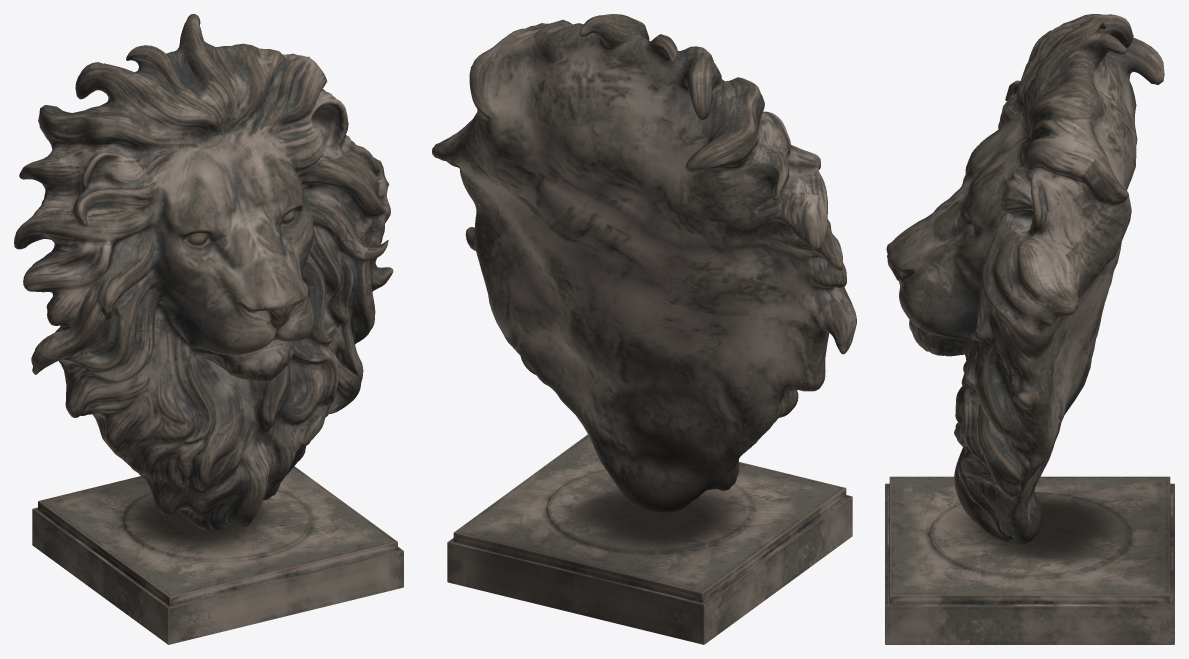
Rendered from lion_head_1k.obj.
The picture shows the model from 3 angles, left to right: view 1: azimuth 30°, elevation 25°; view 2: azimuth 150°, elevation 25°; view 3: azimuth 270°, elevation 25°; orthographic projection. The views are drawn at different scales.
Visible parts, largest first — view 1: lion_head; view 2: lion_head; view 3: lion_head.
Boxes of the visible parts, x1,y1,x2,y2 form: lion_head: (14, 14, 403, 644); lion_head: (432, 14, 856, 644); lion_head: (885, 14, 1174, 644).
Size of the model in its own units: 0.3208 by 0.4364 by 0.2066.
Materials: 1 (1 with a texture image).
